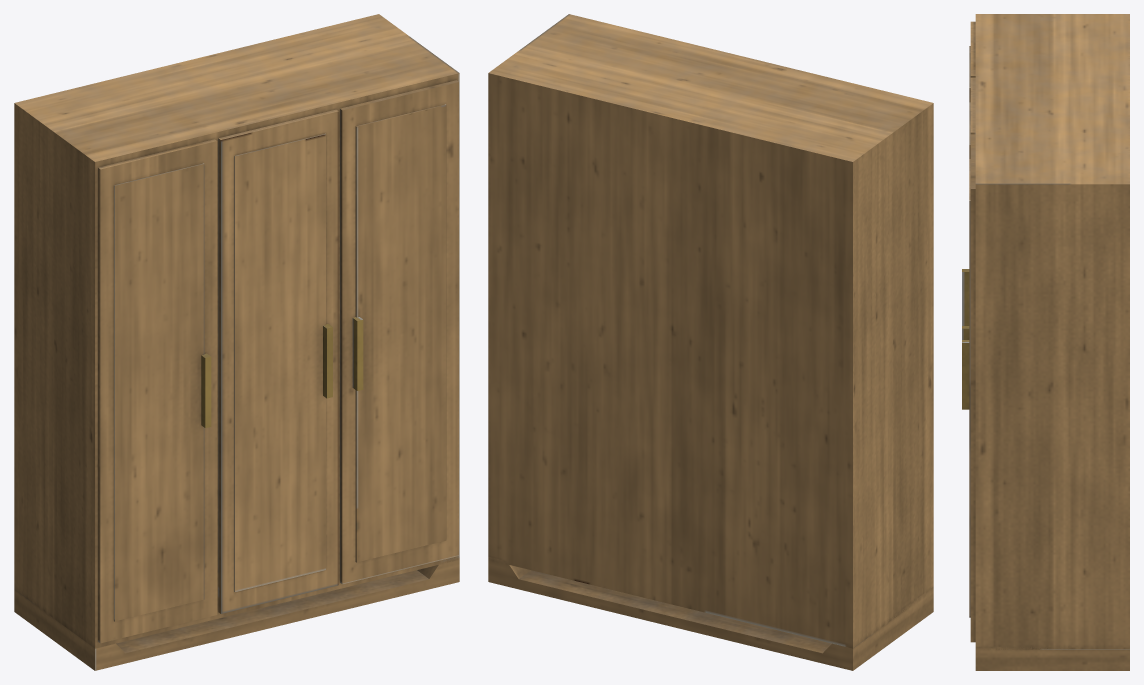
The model's file is H_Wardrobe_Maple.fbx.
3 views of the same model, side by side, from view 1: azimuth 30°, elevation 25°; view 2: azimuth 150°, elevation 25°; view 3: azimuth 270°, elevation 25° (orthographic). The views are drawn at different scales.
Parts seen in each view (by area): view 1: H_Wardrobe_Maple; view 2: H_Wardrobe_Maple; view 3: H_Wardrobe_Maple.
Part boxes in pixels (x1,y1,x2,y2): H_Wardrobe_Maple: [14, 14, 459, 670]; H_Wardrobe_Maple: [488, 14, 933, 670]; H_Wardrobe_Maple: [962, 14, 1129, 670].
Bounding box in the file's own units: 600 × 800 × 250.
Materials: 1 (1 with a texture image).
